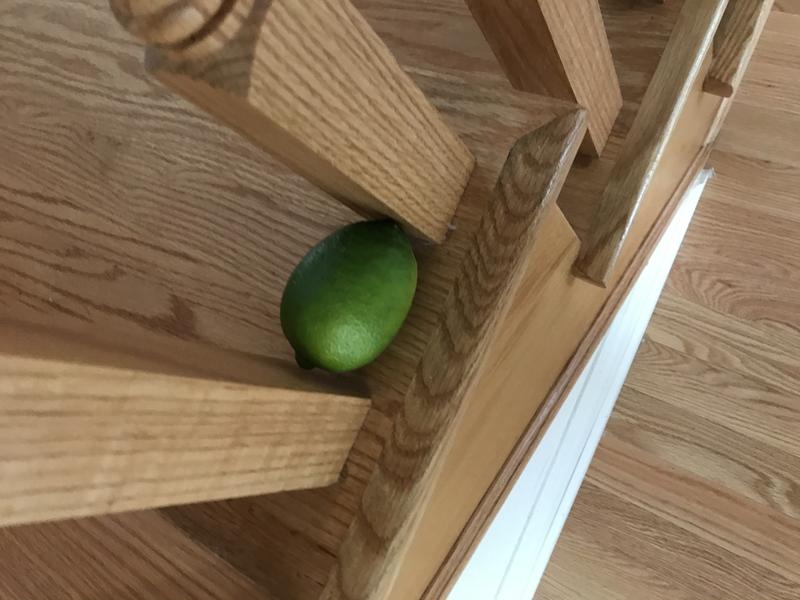lime: (276, 206, 424, 392)
